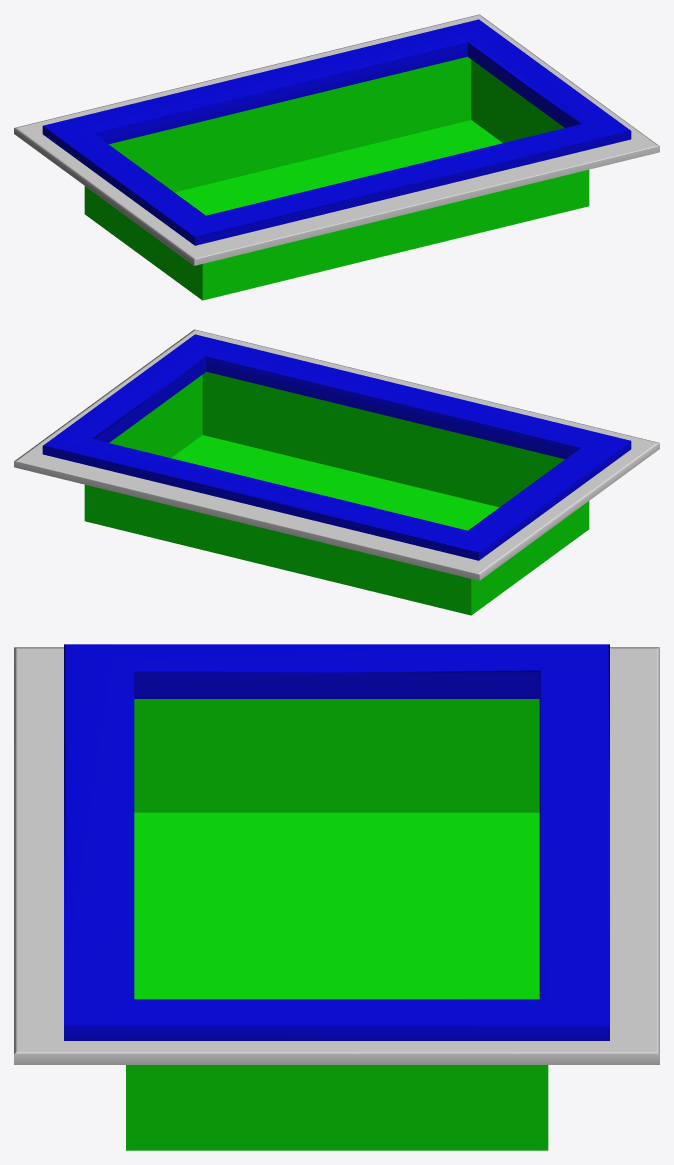
Rendered from Dom_znati_bassein.fbx.
The picture shows the model from 3 angles, top to bottom: view 1: azimuth 30°, elevation 25°; view 2: azimuth 150°, elevation 25°; view 3: azimuth 270°, elevation 25°; orthographic projection. The views are drawn at different scales.
Visible parts, largest first — view 1: Dom_znati_bassein; view 2: Dom_znati_bassein; view 3: Dom_znati_bassein.
Part boxes in pixels (x1,y1,x2,y2): Dom_znati_bassein: (14,14,659,300); Dom_znati_bassein: (14,329,659,615); Dom_znati_bassein: (14,644,659,1150).
Size of the model in its own units: 41.57 by 7.02 by 27.88.
